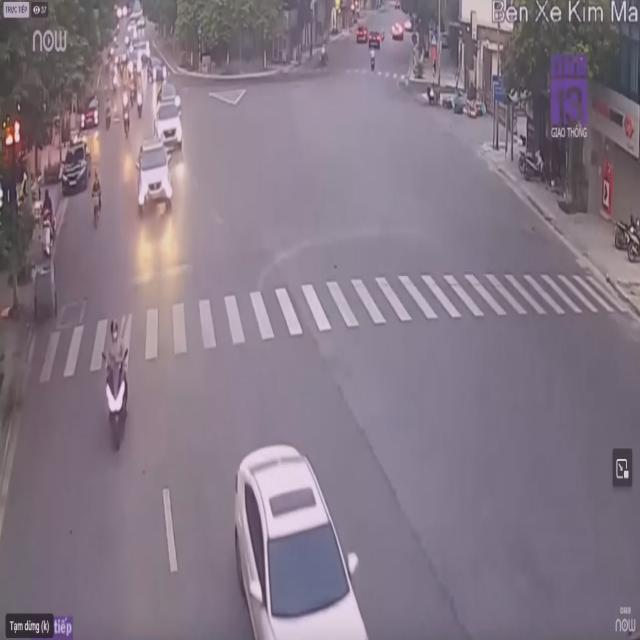car: (235, 437, 382, 638), (136, 137, 174, 214)
motorbike: (104, 321, 130, 443), (91, 170, 105, 222)
